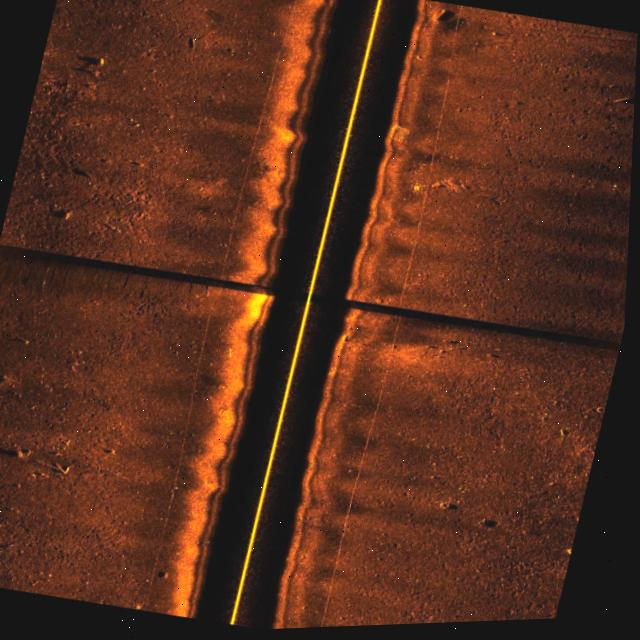mine: (607, 94, 636, 117), (428, 8, 451, 30), (184, 36, 200, 54), (559, 430, 574, 445)
other: (0, 364, 18, 395)
